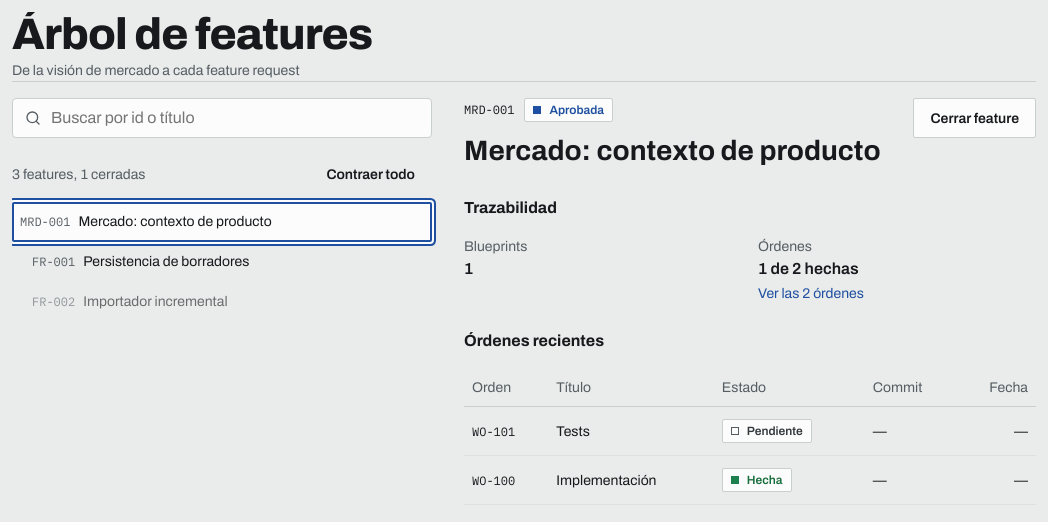
Test: ProjectGraph (árbol de features) › the "Buscar por id o título" field filters the tree, keeping a match's ancestors (WO-461; el conteo del header pasa a «N resultados de M features» por SDD-083 D
Expected: the list item "FR-002 Importador incremental" is shown, left=32, top=294, right=228, bottom=309
Expected: the list item "FR-001 Persistencia de borradores" is shown, left=32, top=254, right=249, bottom=269
Type "FR-001" into the search field labelled "Buscar por id o título" at (236, 118), box left=49, top=105, right=423, bottom=131
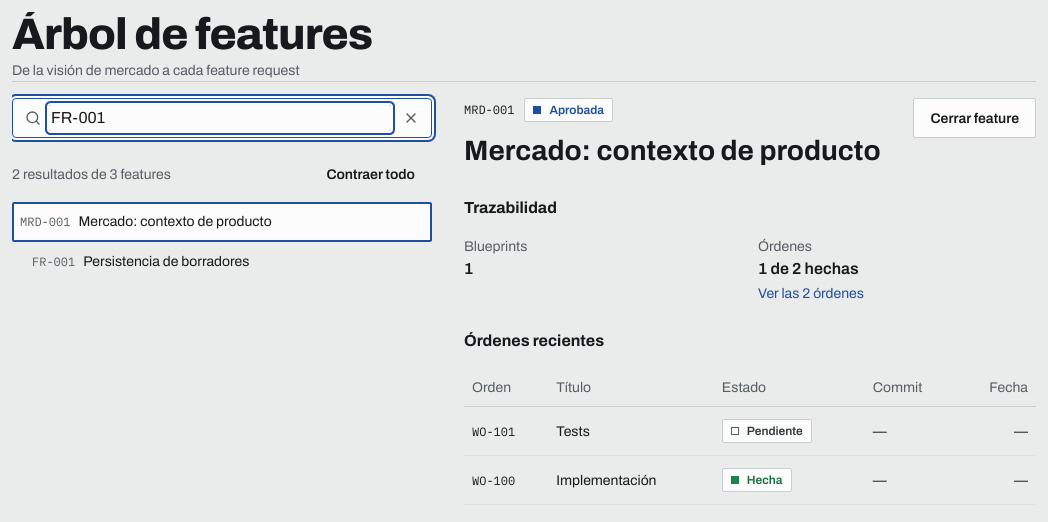
Expected: the list item "FR-001 Persistencia de borradores" is shown, left=32, top=254, right=249, bottom=269
Expected: the text "FR-002" is gone
